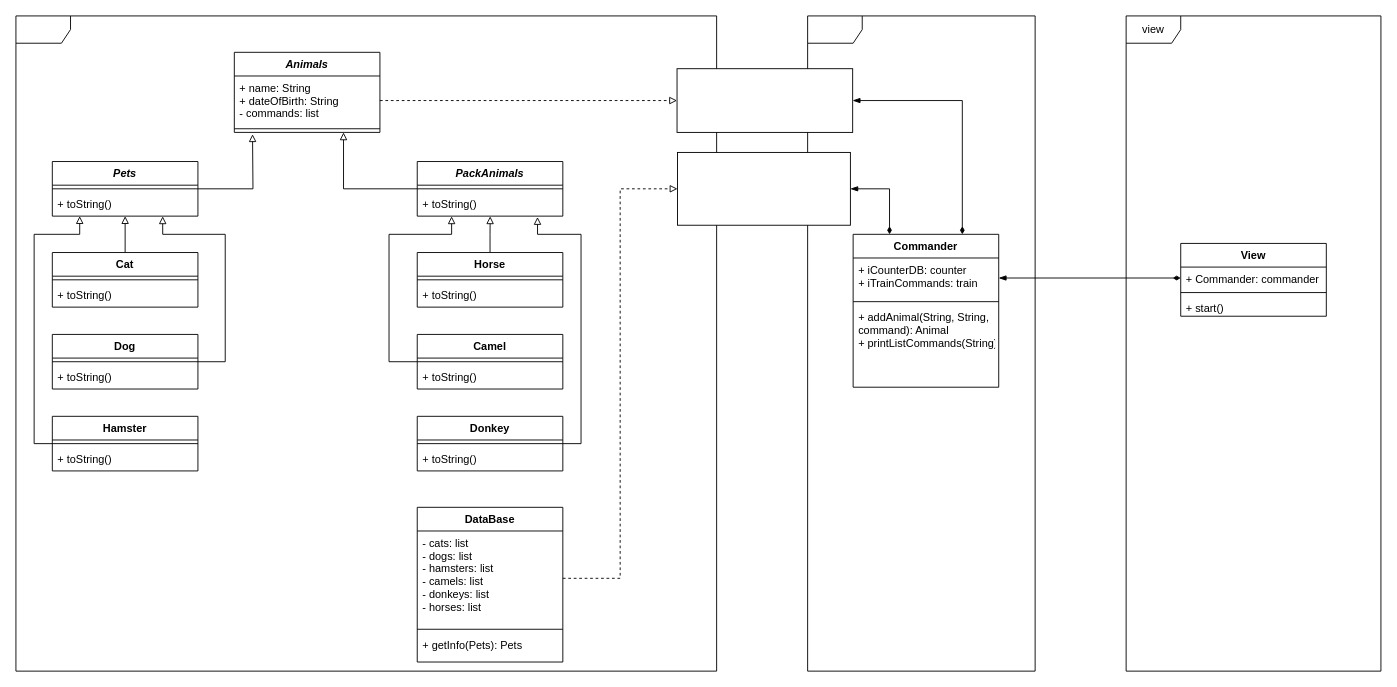
The diagram is 1397 pixels wide and 687 high, and some of its shapes have lost their labels. The shapes that lost their labels are listed below. From the top down, each one's centre as x and y in pixels, then its label:
At pixel 764 100: "<<Interface>> iTrainCommands + trainPets(String)".
At pixel 763 188: "<<Interface>> iCounterDB + addPetsInDB(Pets) + getPets(Pets)".
At pixel 366 343: "model".
At pixel 921 343: "controller".
